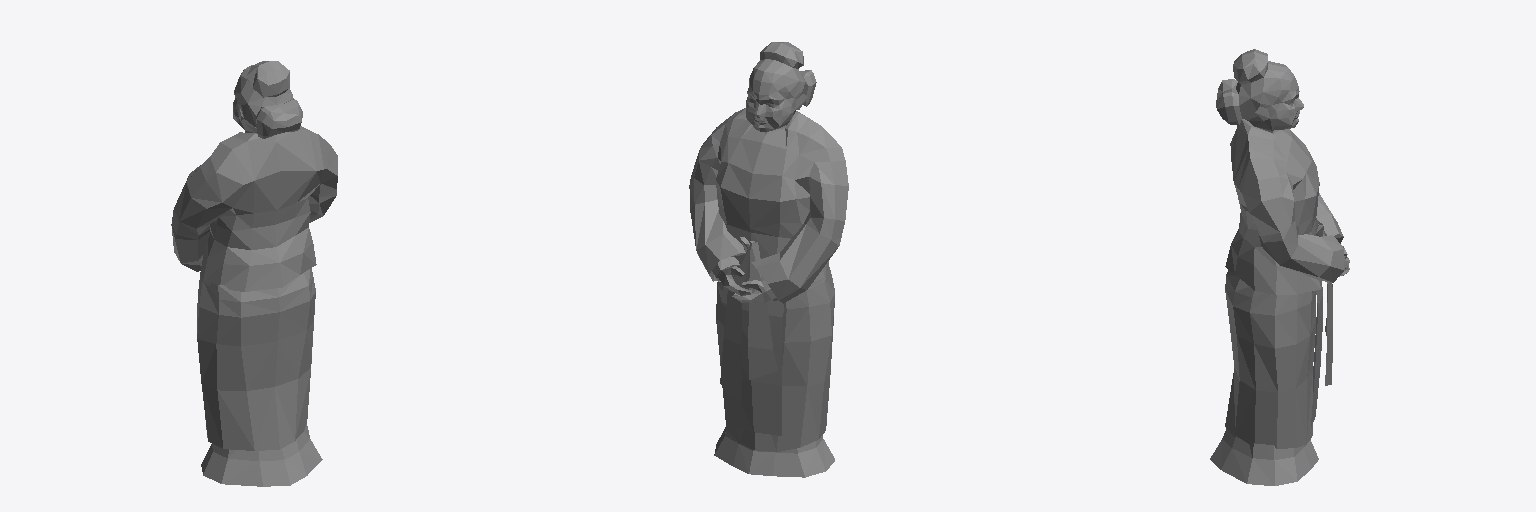
File: grandma.obj
3 renders of one model, left to right at view 1: azimuth 30°, elevation 25°; view 2: azimuth 150°, elevation 25°; view 3: azimuth 270°, elevation 25°, orthographic.
Visible parts, largest first — view 1: laoyu100, laoyuo100; view 2: laoyu100, laoyuo100; view 3: laoyu100, laoyuo100.
Part boxes in pixels (x1,y1,x2,y2): laoyu100: (171, 61, 337, 486); laoyuo100: (197, 268, 315, 450); laoyu100: (689, 42, 848, 477); laoyuo100: (716, 240, 834, 451); laoyu100: (1210, 49, 1349, 485); laoyuo100: (1225, 222, 1332, 448).
Bounding box in the file's own units: 0.6279 × 1.59 × 0.4963.